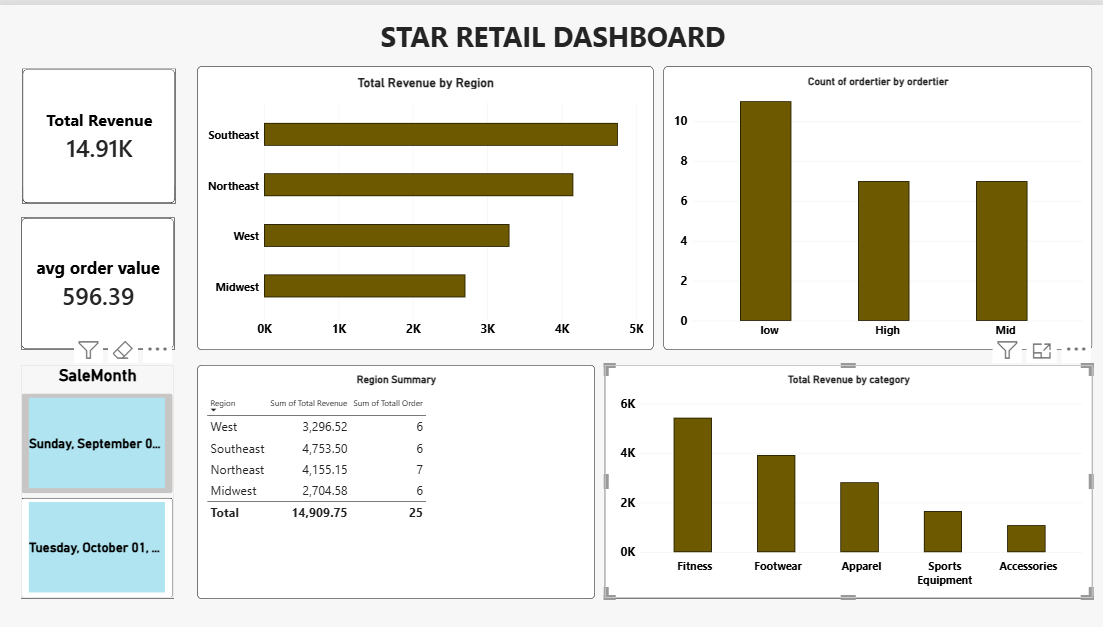

This screenshot's page, from the dashboard's own definition file:
{"tool":"powerbi","page":{"name":"Page 1","canvas":[1920,1080],"ordinal":0},"visuals":[{"type":"textbox","box":[10.3,0,1910.1,72],"z":0},{"type":"cardVisual","fields":{"Data":["Salesorder.Total Revenue"]},"box":[50.6,72.9,265.4,237],"z":1},{"type":"cardVisual","fields":{"Data":["Salesorder.avg order value"]},"box":[56.7,340.3,259.3,218.8],"z":2},{"type":"advancedSlicerVisual","fields":{"Values":["Salesorder.SaleMonth"]},"box":[56.4,589.6,260.1,375],"z":3},{"type":"clusteredBarChart","fields":{"Category":["Salesorder.Region"],"Y":["Salesorder.Total Revenue"]},"box":[390.2,71.5,715.3,468.2],"z":4},{"type":"clusteredColumnChart","fields":{"Category":["Salesorder.ordertier"],"Y":["CountNonNull(Salesorder.ordertier)"]},"box":[1142.3,71.5,758.6,468.2],"z":5},{"type":"tableEx","title":"Region Summary","fields":{"Values":["Regionsummary.Region","Sum(Regionsummary.Total Revenue)","Sum(Regionsummary.Totall Order)"]},"box":[390.2,559.2,650.3,405.3],"z":6},{"type":"clusteredColumnChart","title":"Total Revenue by category","fields":{"Category":["Salesorder.Category"],"Y":["Salesorder.Total Revenue"]},"box":[1066.4,559.2,834.5,405.3],"z":7}]}

Visuals, with their boxes in screenshot pixels (x1, y1, x2, y2), scaled from the page's 1920x1080 canvas onto the 1103x627 screenshot:
textbox: <box>6,0,1102,42</box>
cardVisual - Salesorder.Total Revenue: <box>29,42,182,180</box>
cardVisual - Salesorder.avg order value: <box>33,198,182,325</box>
advancedSlicerVisual - Salesorder.SaleMonth: <box>32,342,182,560</box>
clusteredBarChart - Salesorder.Region x Salesorder.Total Revenue: <box>224,42,635,313</box>
clusteredColumnChart - Salesorder.ordertier x CountNonNull(Salesorder.ordertier): <box>656,42,1092,313</box>
"Region Summary" tableEx: <box>224,325,598,560</box>
"Total Revenue by category" clusteredColumnChart: <box>613,325,1092,560</box>
